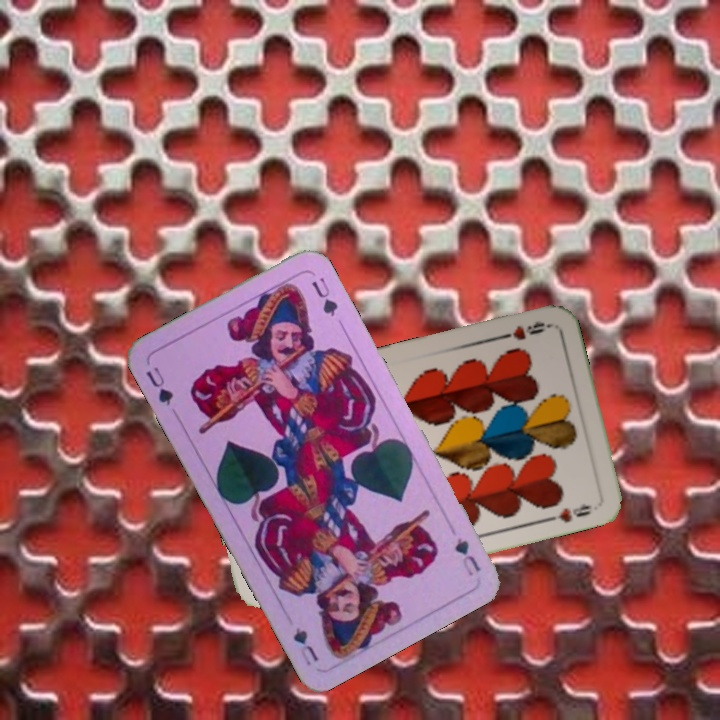GU: (141, 362, 177, 409), (450, 534, 484, 579)
H9: (494, 317, 553, 343)
